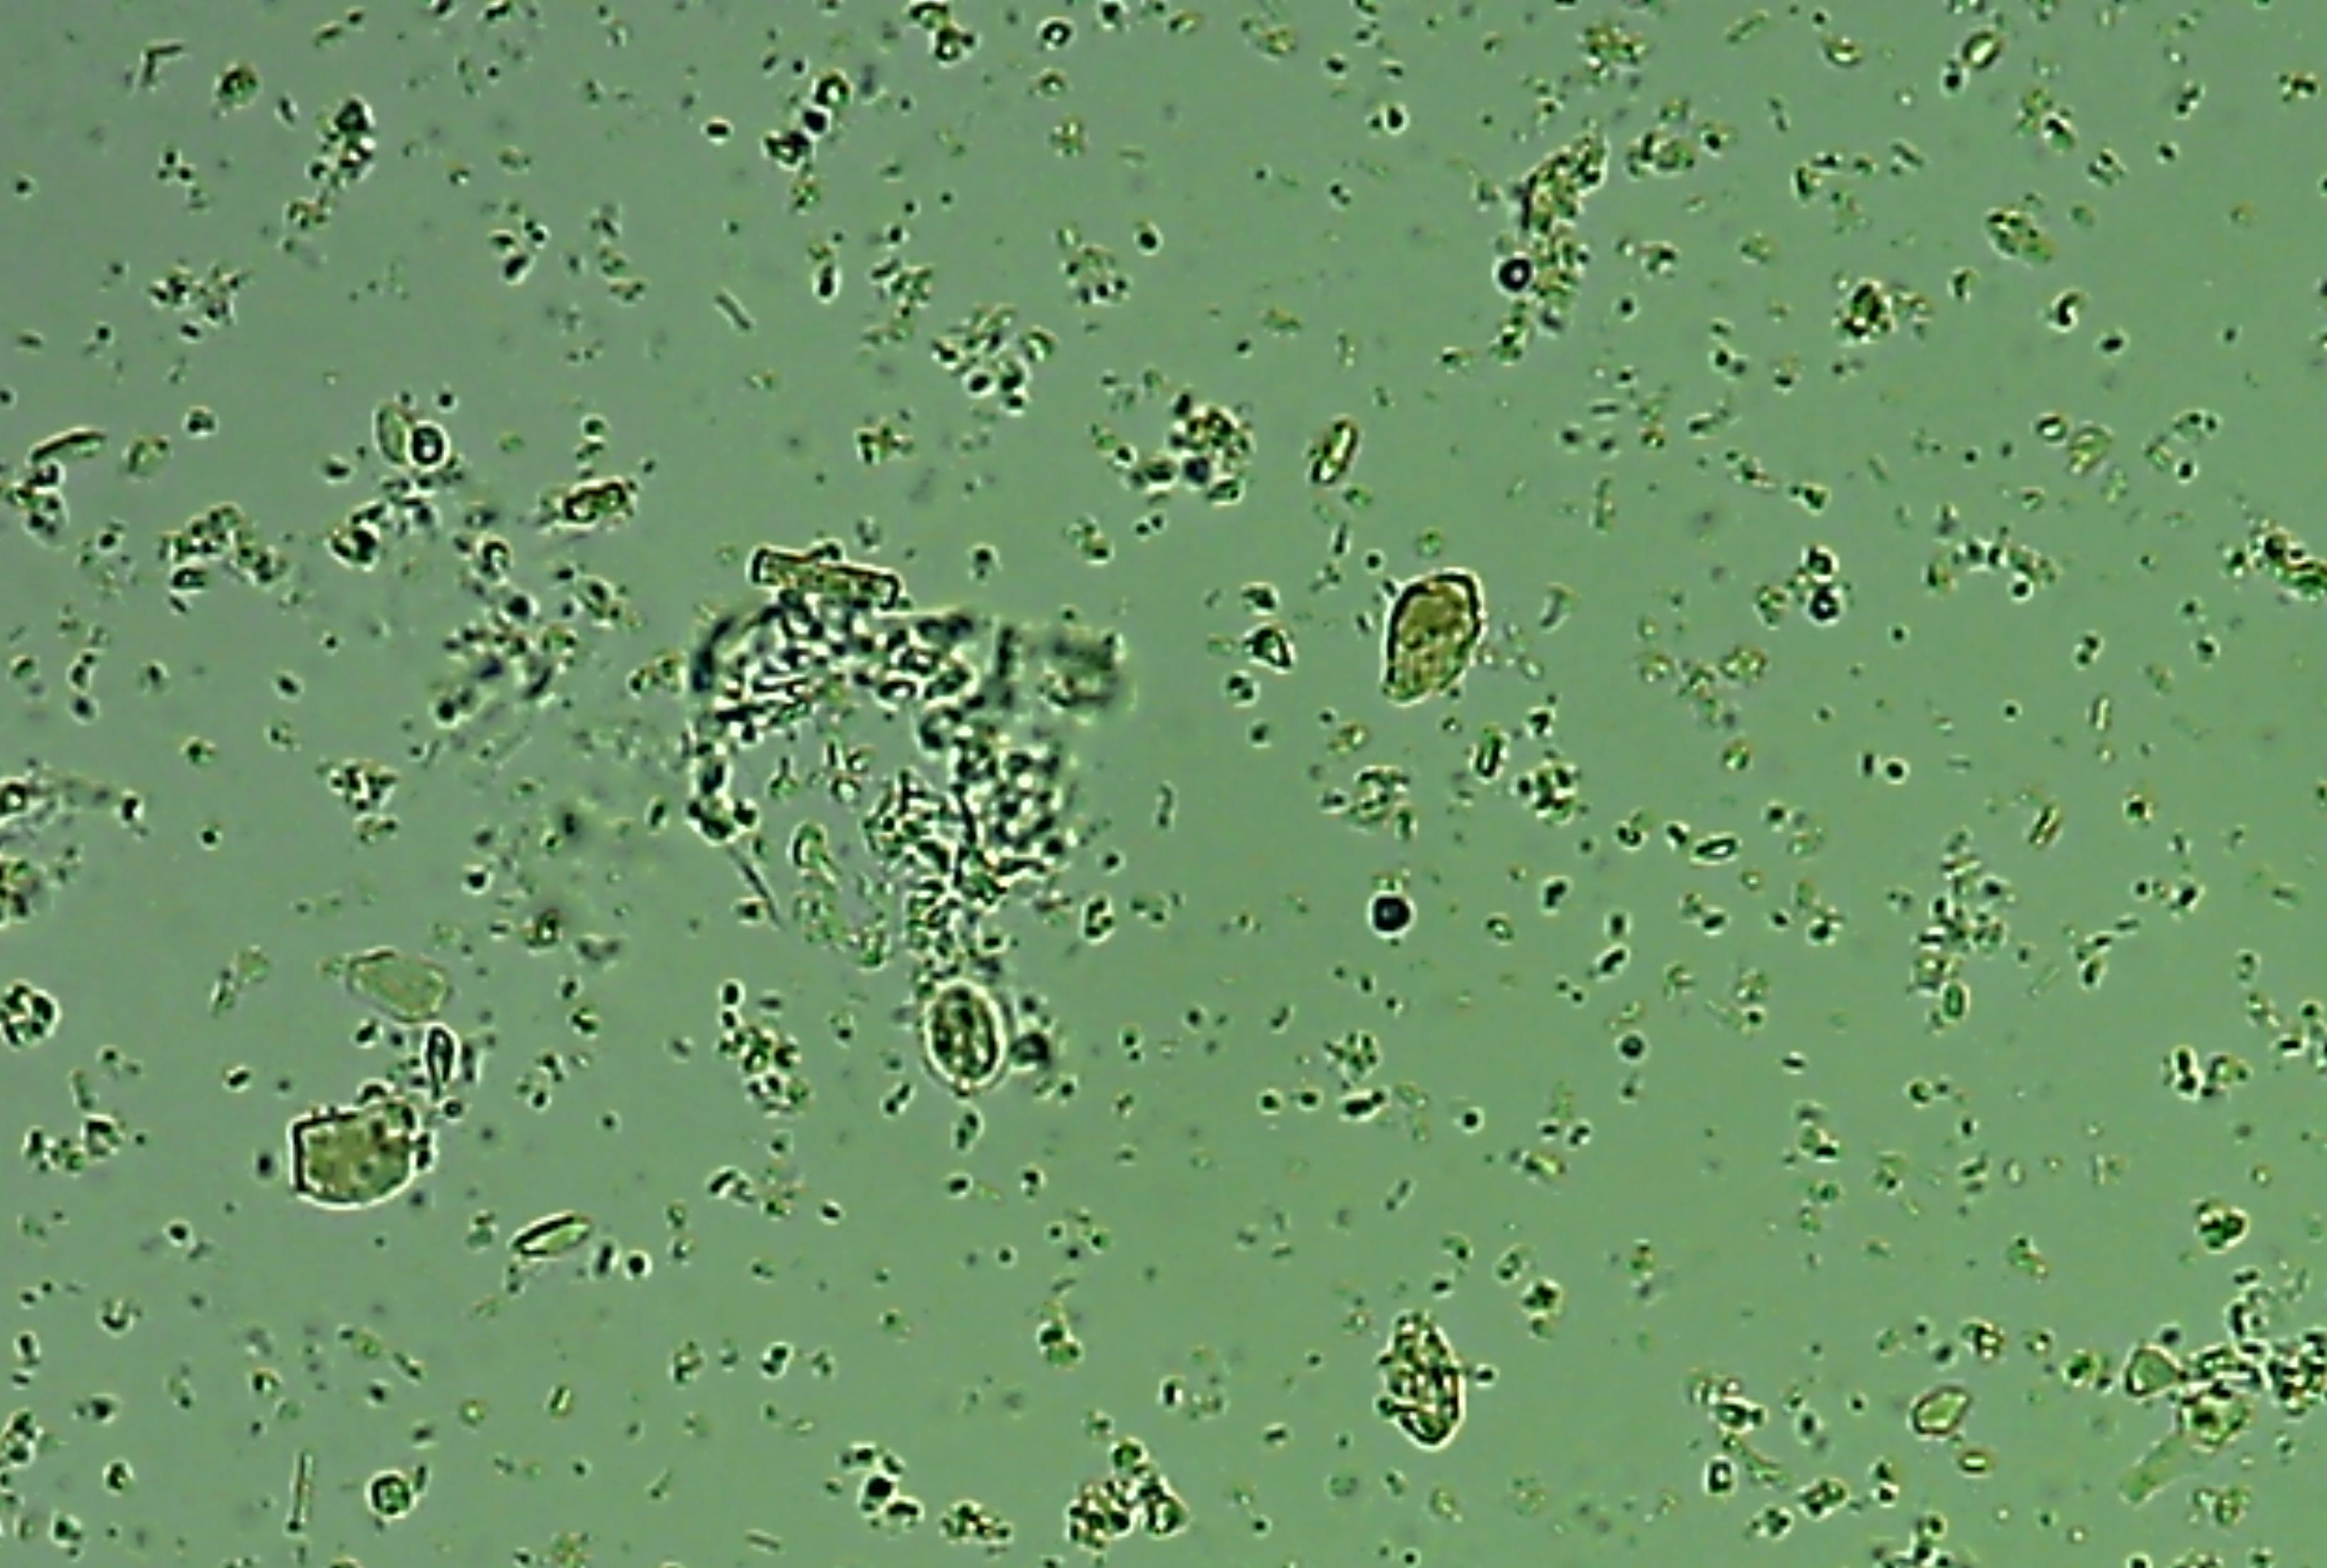Giardia duodenalis: (910, 969, 1022, 1106)
